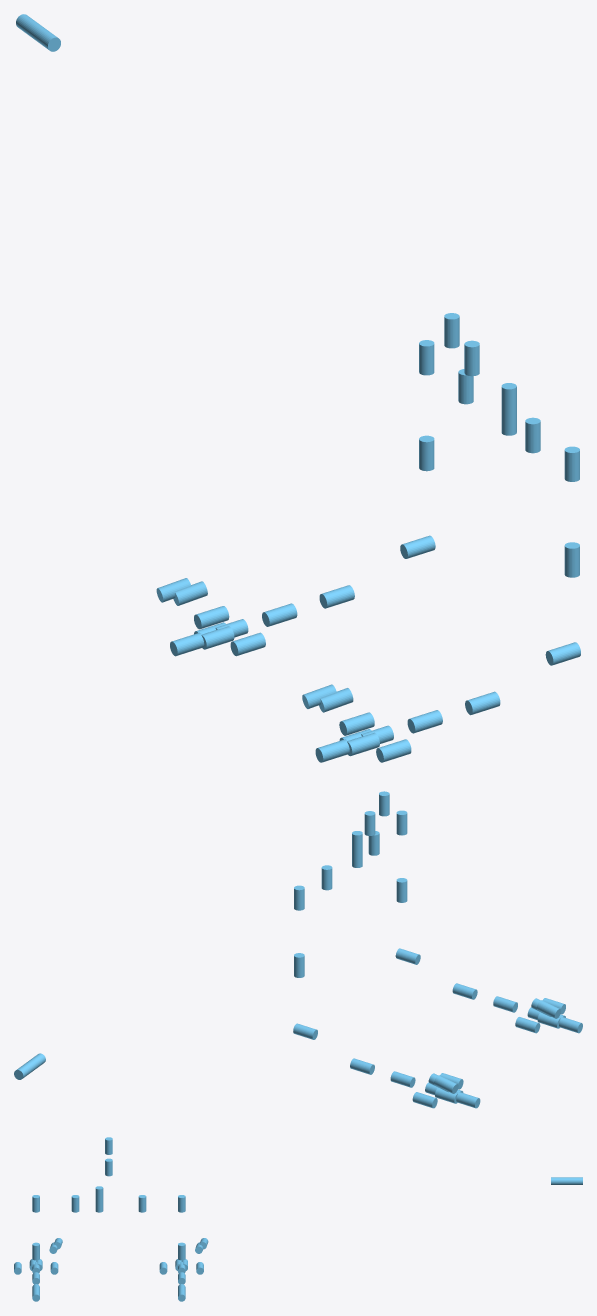
Rendered from pick_place.fbx.
3 renders of one model, top to bottom at view 1: azimuth 30°, elevation 25°; view 2: azimuth 150°, elevation 25°; view 3: azimuth 270°, elevation 25°, orthographic. The views are drawn at different scales.
Visible parts, largest first — view 1: no part large enough to name; view 2: no part large enough to name; view 3: stick_base_root, stick_lift_joint.
Boxes of the visible parts, bbox=[...] form: stick_base_root: bbox=[551, 1177, 582, 1184]; stick_lift_joint: bbox=[95, 1186, 103, 1212].
Bounding box in the file's own units: 0.4694 × 0.591 × 1.78.
